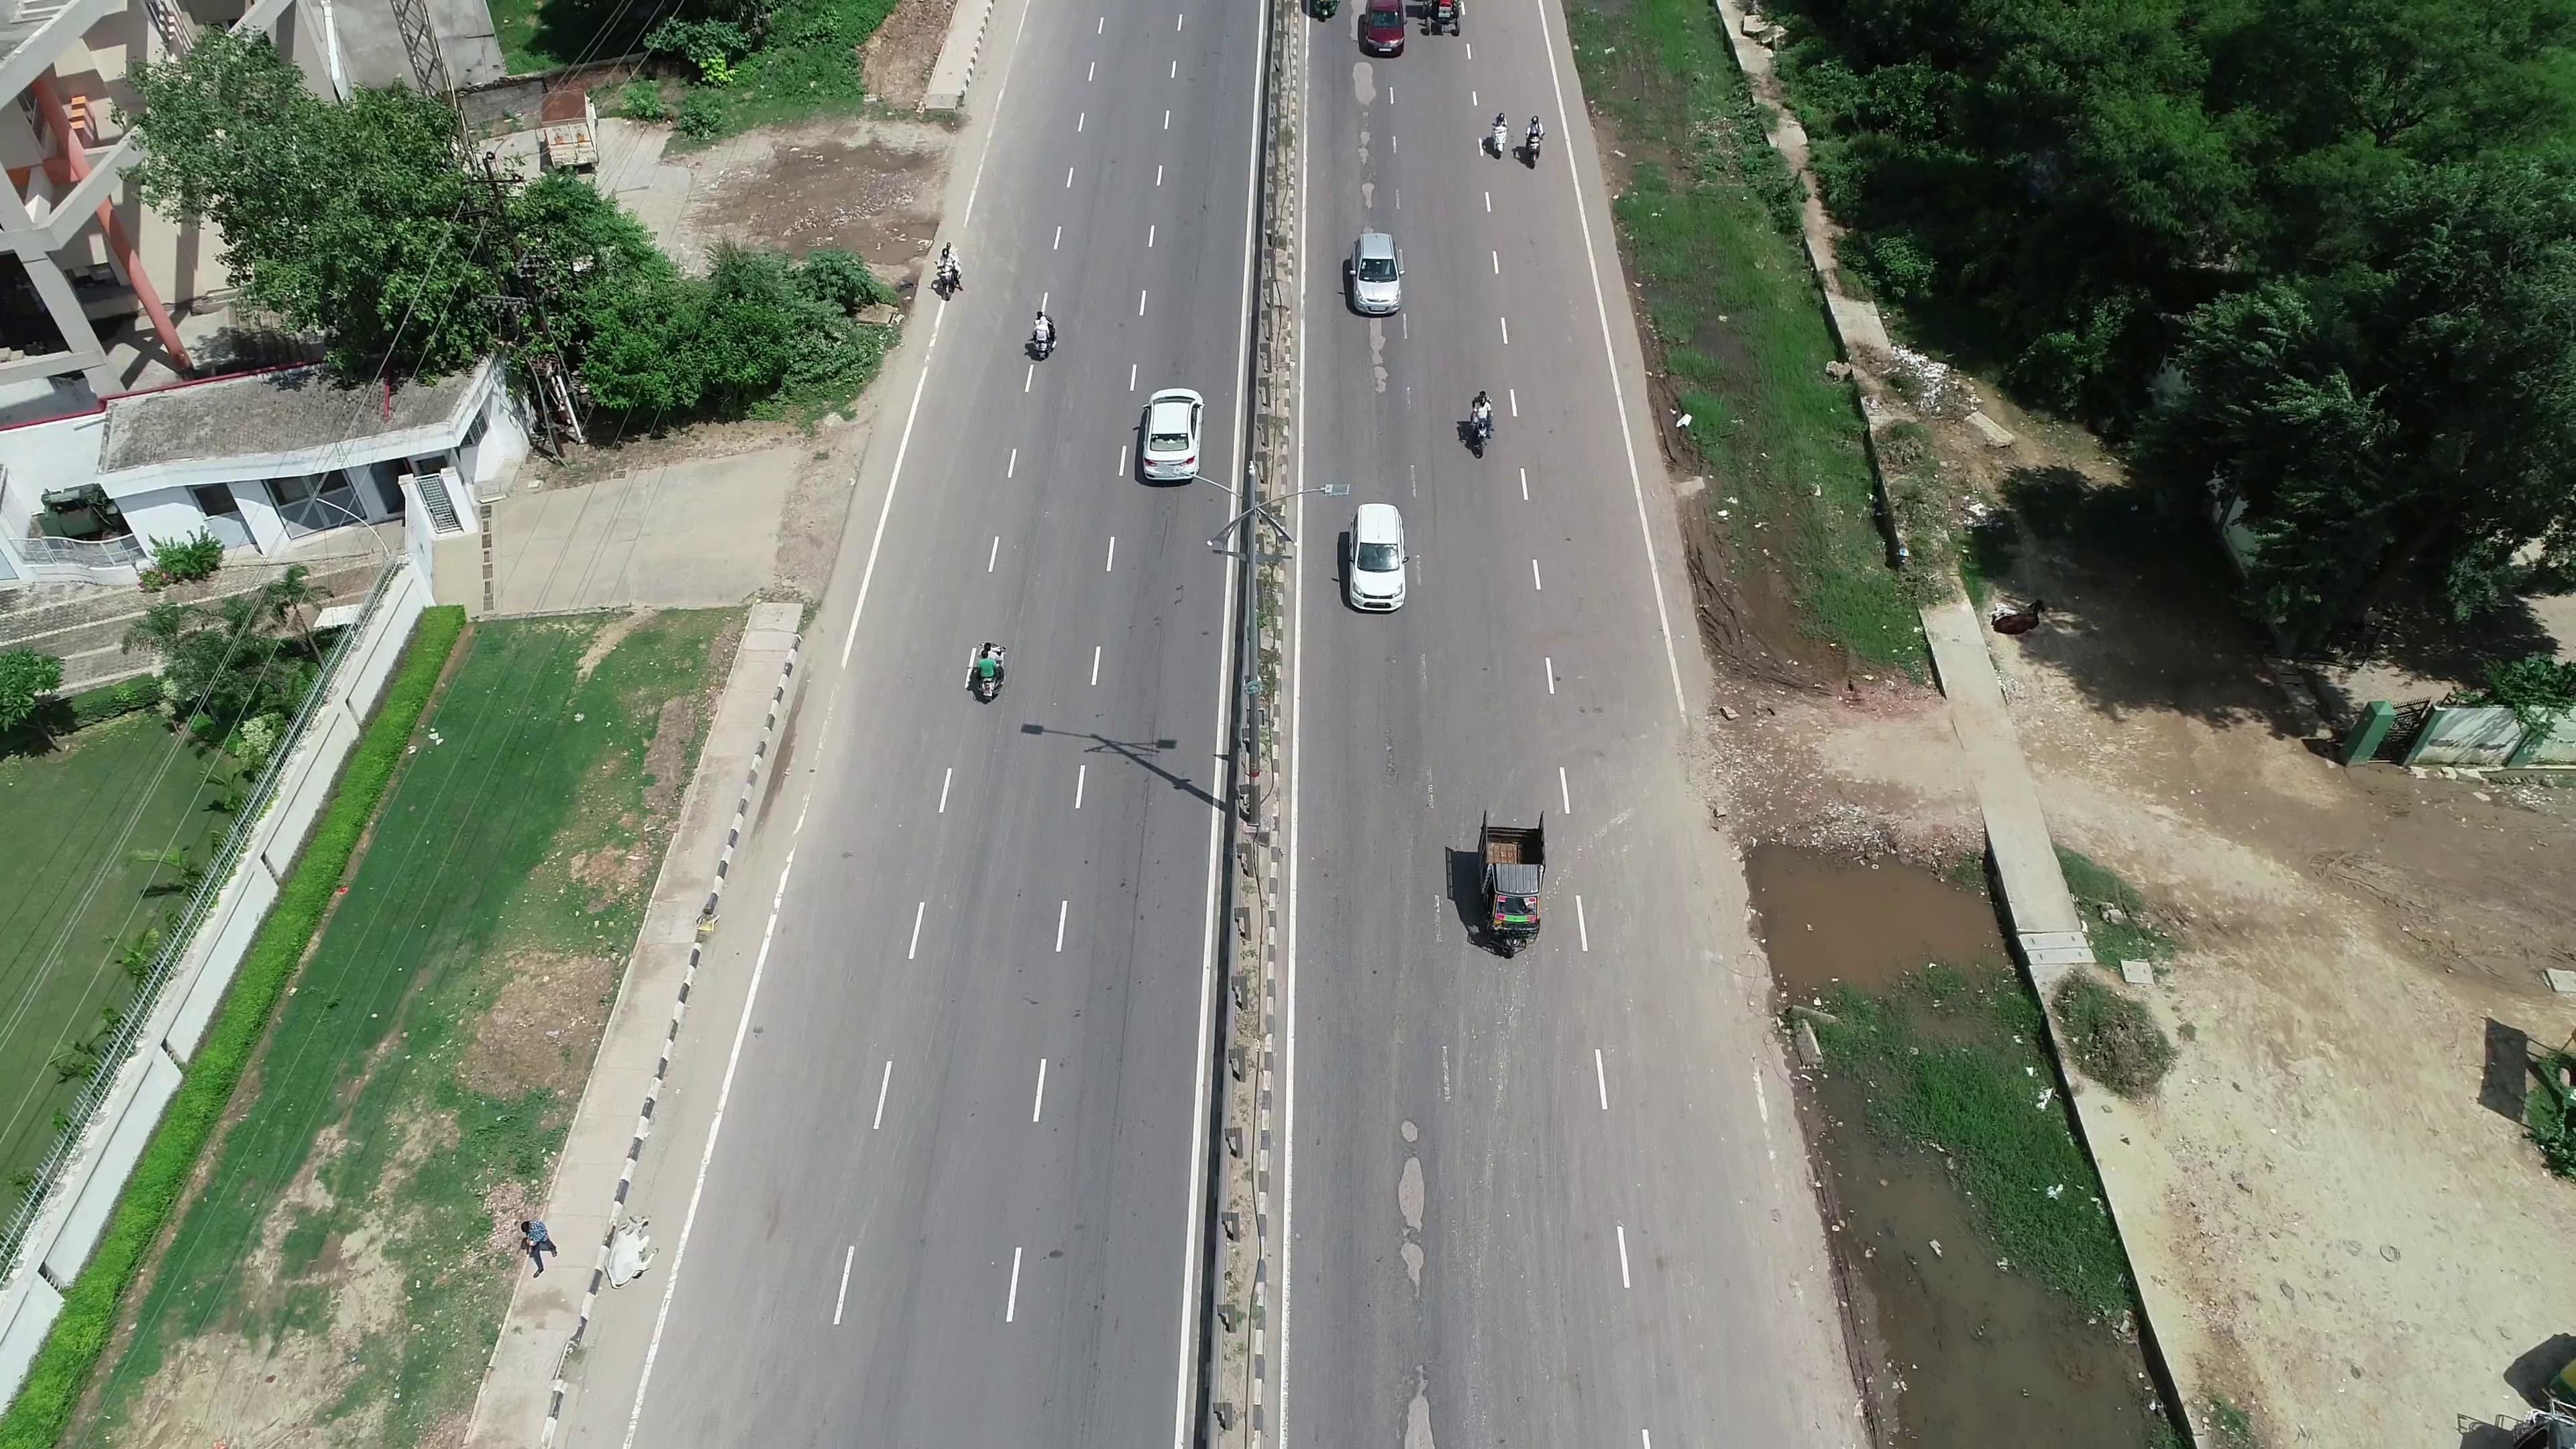Potholes: (1387, 1099, 1440, 1316), (1352, 58, 1384, 207)
